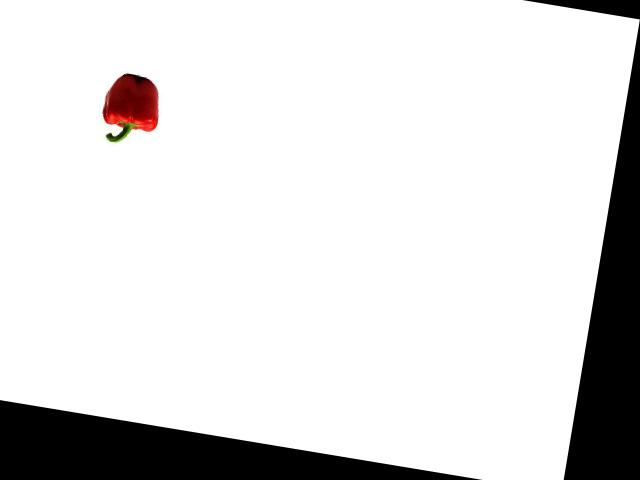bell_pepper: (94, 67, 168, 151)
